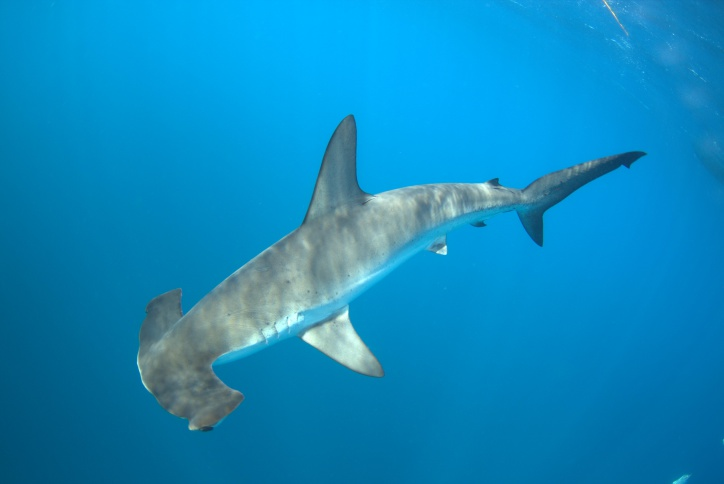Hammer: (90, 105, 694, 462)
